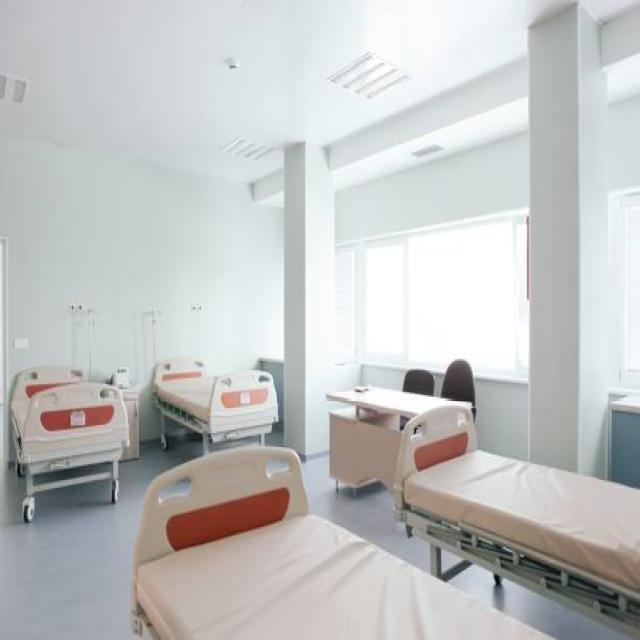bed: (130, 444, 558, 638), (392, 402, 639, 638), (8, 363, 129, 522), (150, 356, 278, 455)
